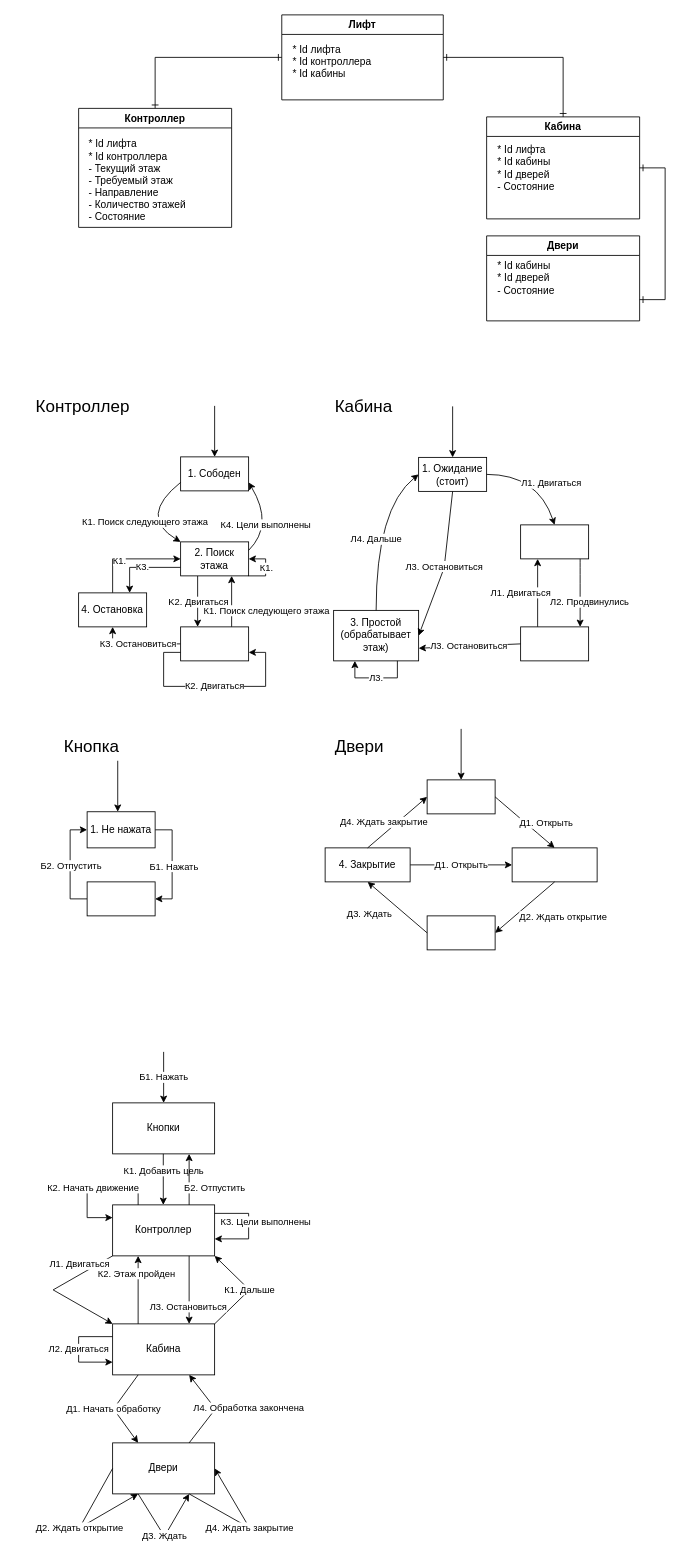
Some shapes in this 688 by 1558 pixel diagram are drawn without their labels. The box of each missing label's shape, as (x1, y1, x2, y2) in pixels:
1. Закрыты: (426, 779, 495, 814)
2. Движение: (520, 524, 589, 559)
2. Нажата: (86, 881, 155, 916)
2. Открыт ие: (511, 847, 597, 882)
3. Контроль движения до этажа: (180, 626, 249, 661)
3. Открыты: (426, 915, 495, 950)
3. Приехали: (520, 626, 589, 661)
